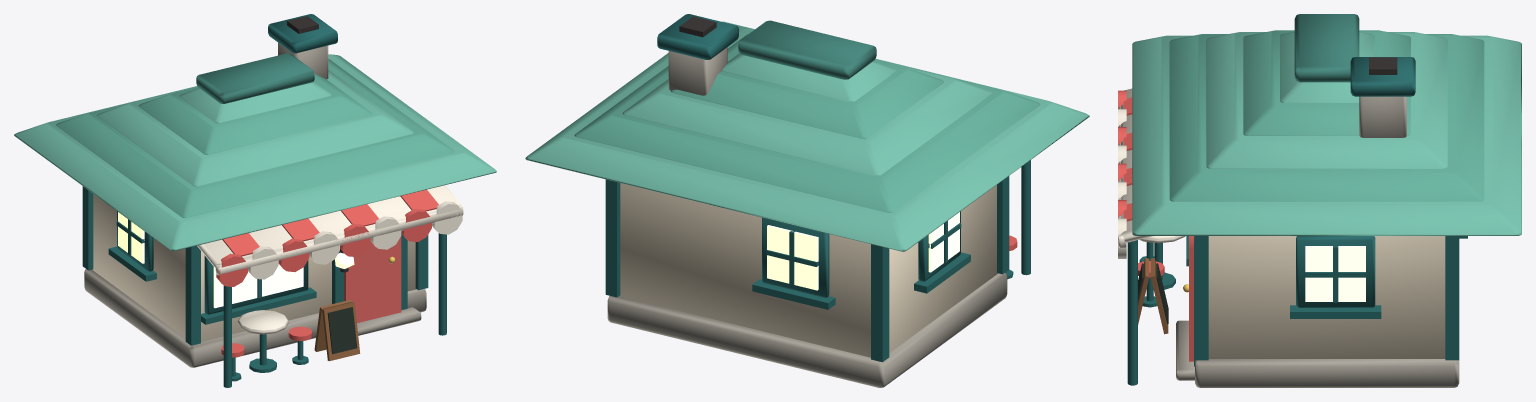
File: v_cafe.glb
3 views of the same model, side by side, from view 1: azimuth 30°, elevation 25°; view 2: azimuth 150°, elevation 25°; view 3: azimuth 270°, elevation 25° (orthographic). The views are drawn at different scales.
Parts seen in each view (by area): view 1: Cafe; view 2: Cafe; view 3: Cafe.
Part boxes in pixels (x1=…): Cafe: x1=14, y1=14, x2=496, y2=387; Cafe: x1=525, y1=14, x2=1089, y2=387; Cafe: x1=1118, y1=14, x2=1521, y2=387.
Bounding box in the file's own units: 5.31 × 3.81 × 4.68.
